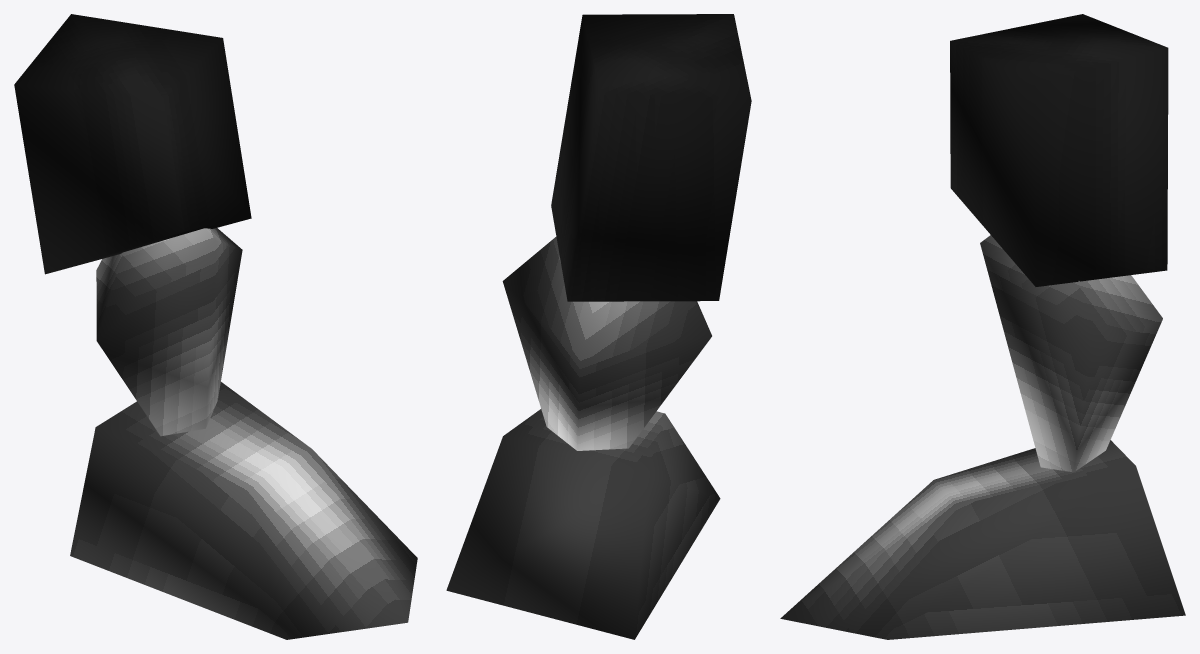
Rendered from Wolf_piernaI.obj.
The picture shows the model from 3 angles, left to right: view 1: azimuth 30°, elevation 25°; view 2: azimuth 150°, elevation 25°; view 3: azimuth 270°, elevation 25°; orthographic projection. The views are drawn at different scales.
Bounding box in the file's own units: 1.97 × 3.26 × 2.26.
